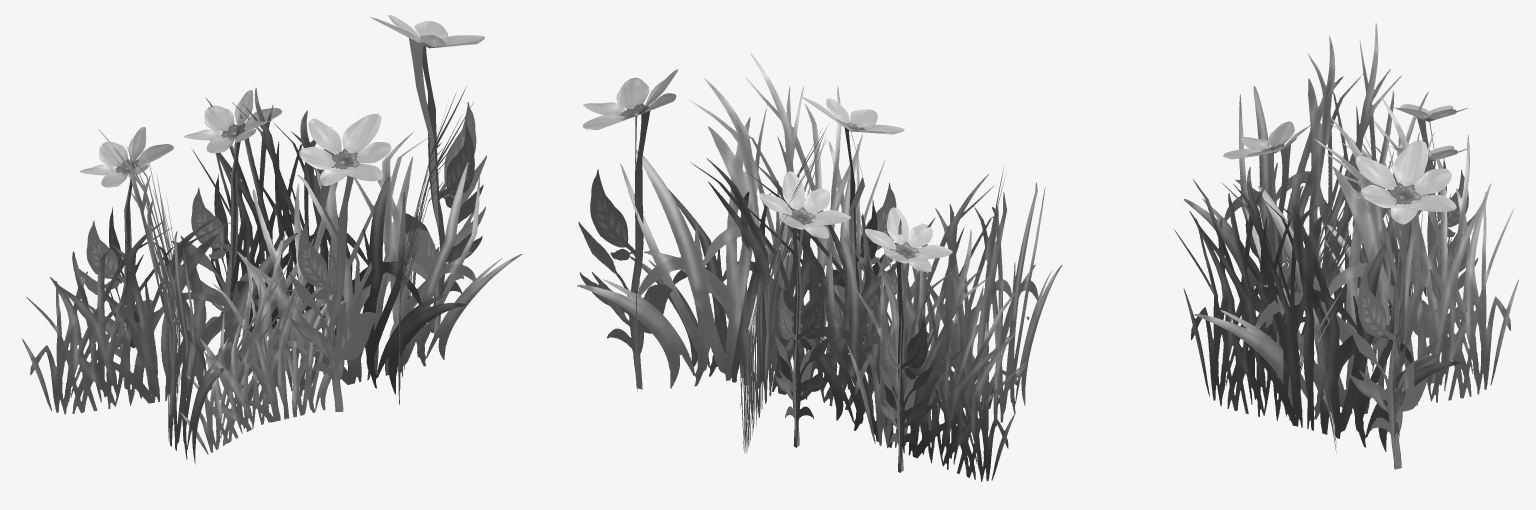
Rendered from p_grass_flowers.fbx.
The picture shows the model from 3 angles, left to right: view 1: azimuth 30°, elevation 25°; view 2: azimuth 150°, elevation 25°; view 3: azimuth 270°, elevation 25°; orthographic projection. The views are drawn at different scales.
Parts seen in each view (by area): view 1: p_grass_patch, p_flowers; view 2: p_grass_patch, p_flowers; view 3: p_grass_patch, p_flowers.
Part boxes in pixels (x1=…): p_grass_patch: x1=22, y1=86, x2=522, y2=464; p_flowers: x1=78, y1=15, x2=486, y2=411; p_grass_patch: x1=577, y1=53, x2=1062, y2=481; p_flowers: x1=578, y1=69, x2=952, y2=472; p_grass_patch: x1=1174, y1=23, x2=1518, y2=453; p_flowers: x1=1222, y1=104, x2=1478, y2=469.
Bounding box in the file's own units: 30.05 × 18.33 × 21.81.
